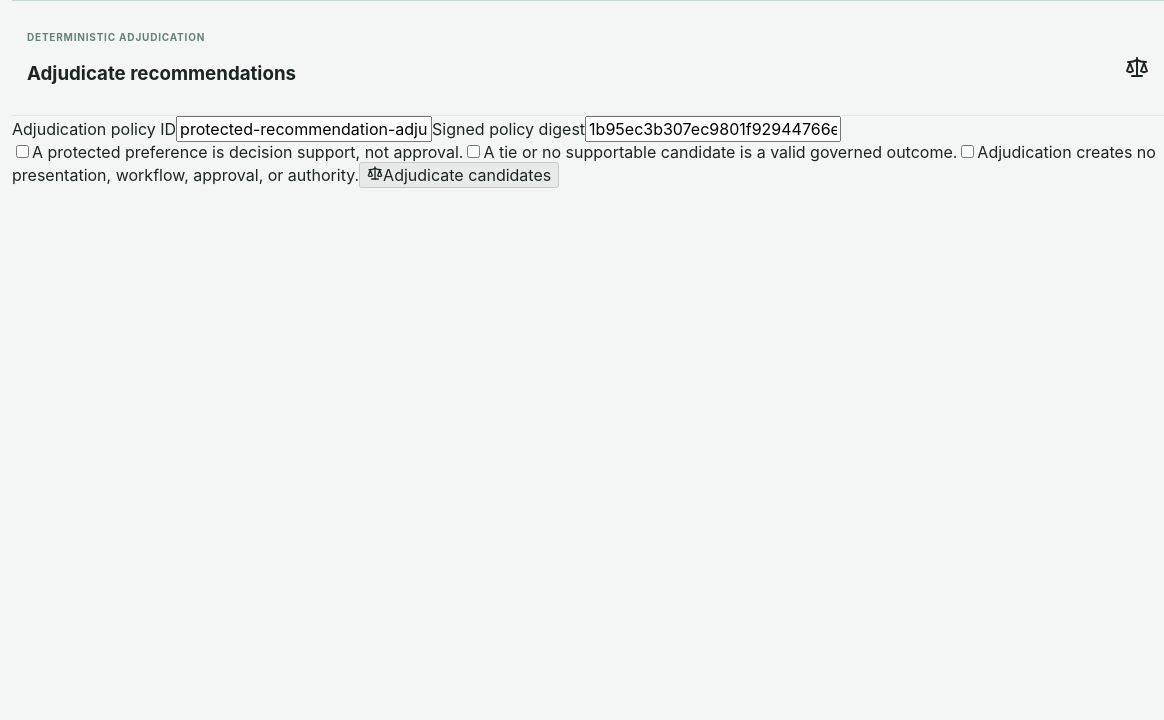
Scenario: ProtectedRecommendationAdjudicationPanel › submits only acknowledgements and presents a minimized aggregate
This screenshot has width=1164, height=720.
Expected: the button "Adjudicate candidates" is disabled, [359, 162, 559, 188]
Click the checkbox labelled "A protected preference is decision support, not approval.".
click(22, 152)  # box [16, 145, 29, 158]
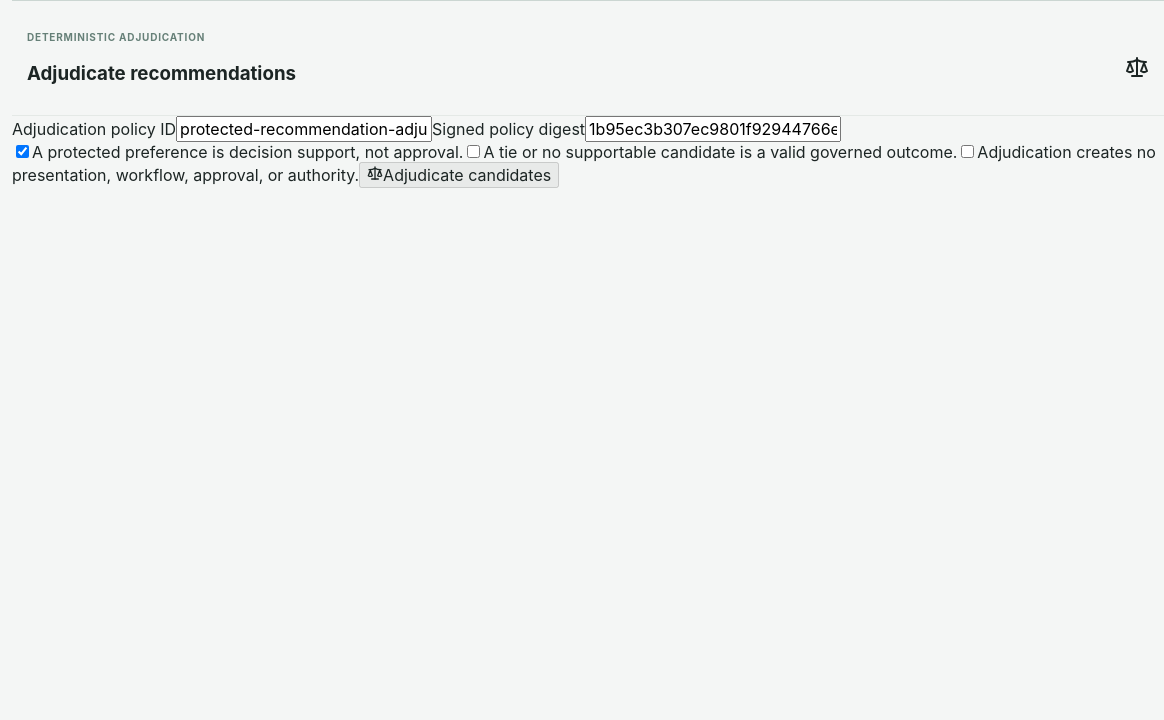
Click the checkbox labelled "A tie or no supportable candidate is a valid governed outcome.".
click(474, 152)  # box [467, 145, 480, 158]
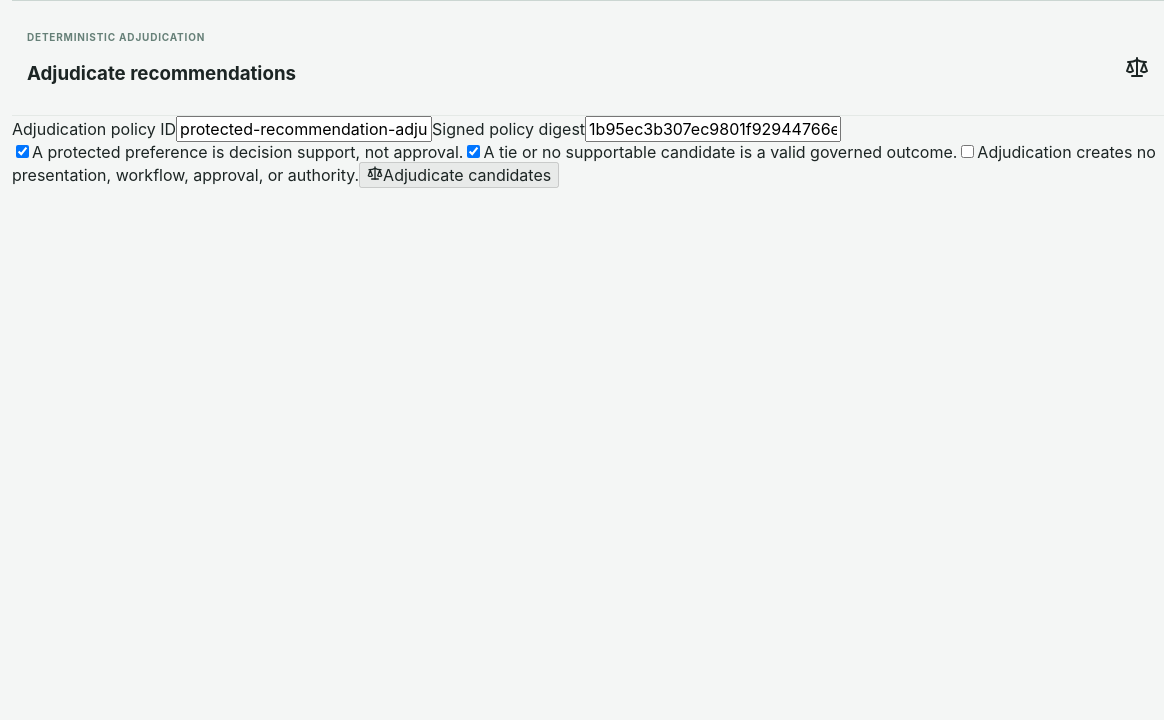
Click the checkbox labelled "Adjudication creates no presentation, workflow, approval, or authority.".
click(968, 152)  # box [961, 145, 974, 158]
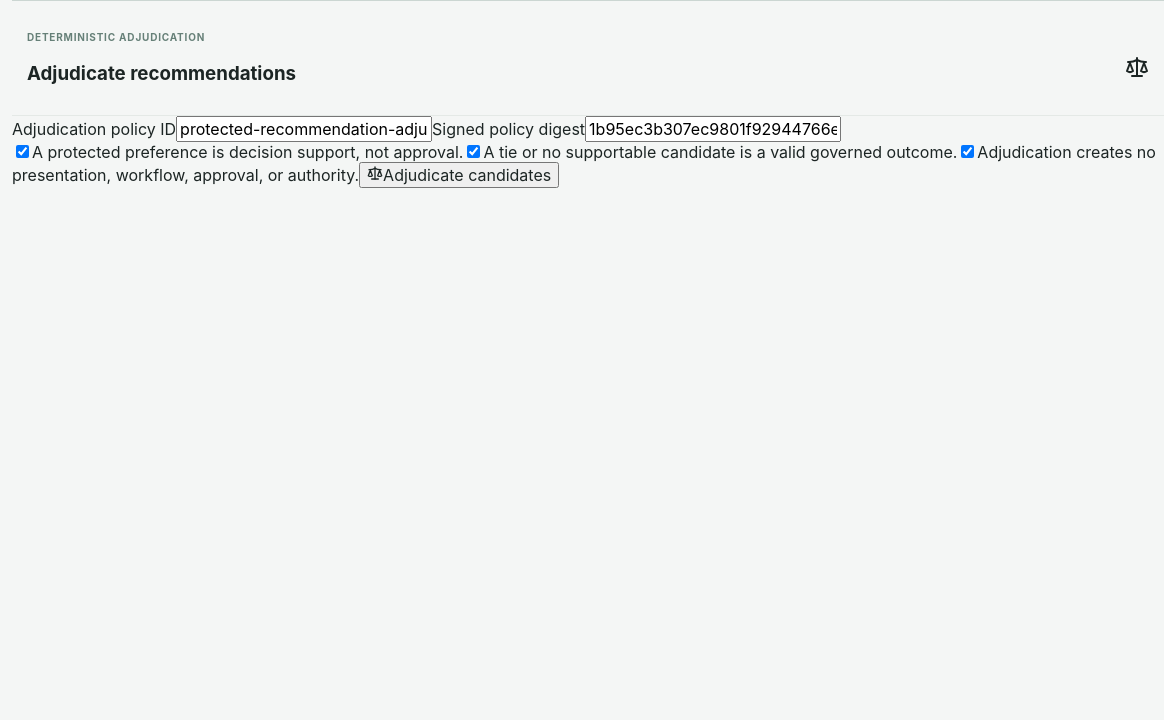
Expected: the button "Adjudicate candidates" is enabled
Click the button "Adjudicate candidates".
click(459, 175)  # box [359, 162, 559, 188]
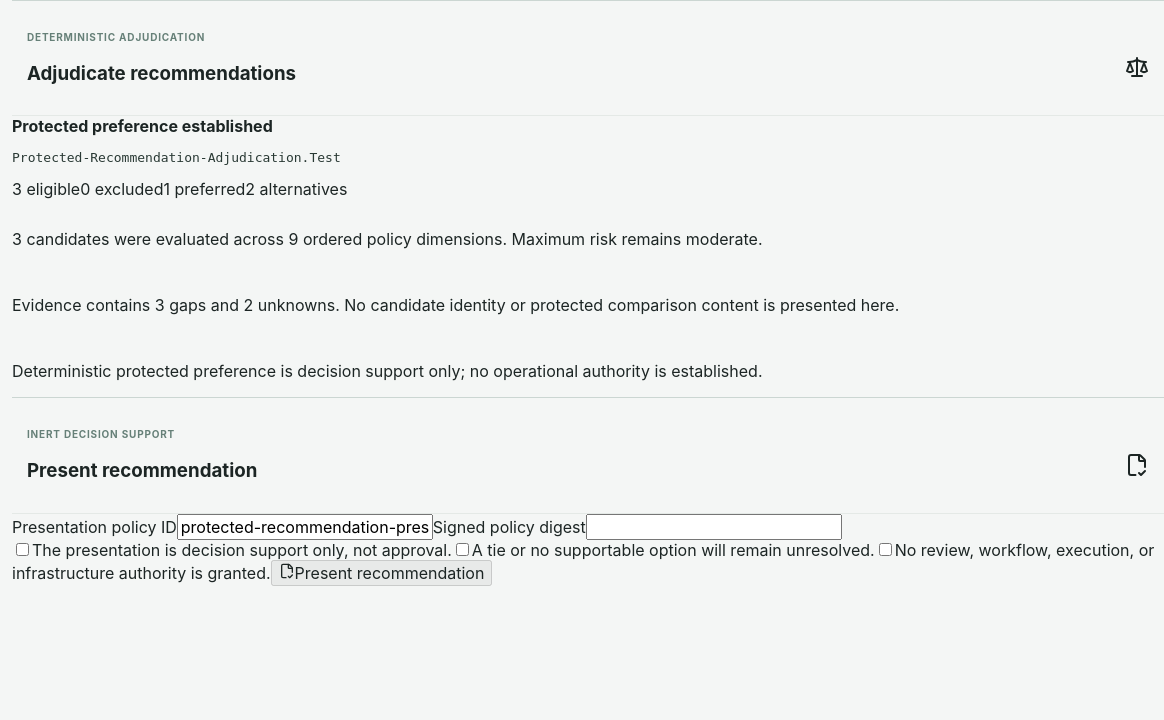
Expected: the text "Protected preference established" is shown, [12, 116, 273, 136]
Expected: the text "3 eligible" is shown, [12, 179, 80, 199]
Expected: the text "1 preferred" is shown, [164, 179, 245, 199]
